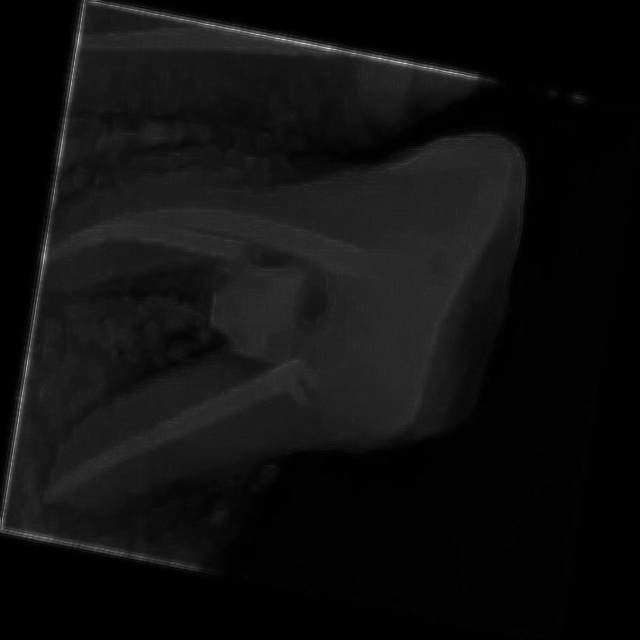Class 1- complete endodontic treatment: (1, 67, 450, 600)
